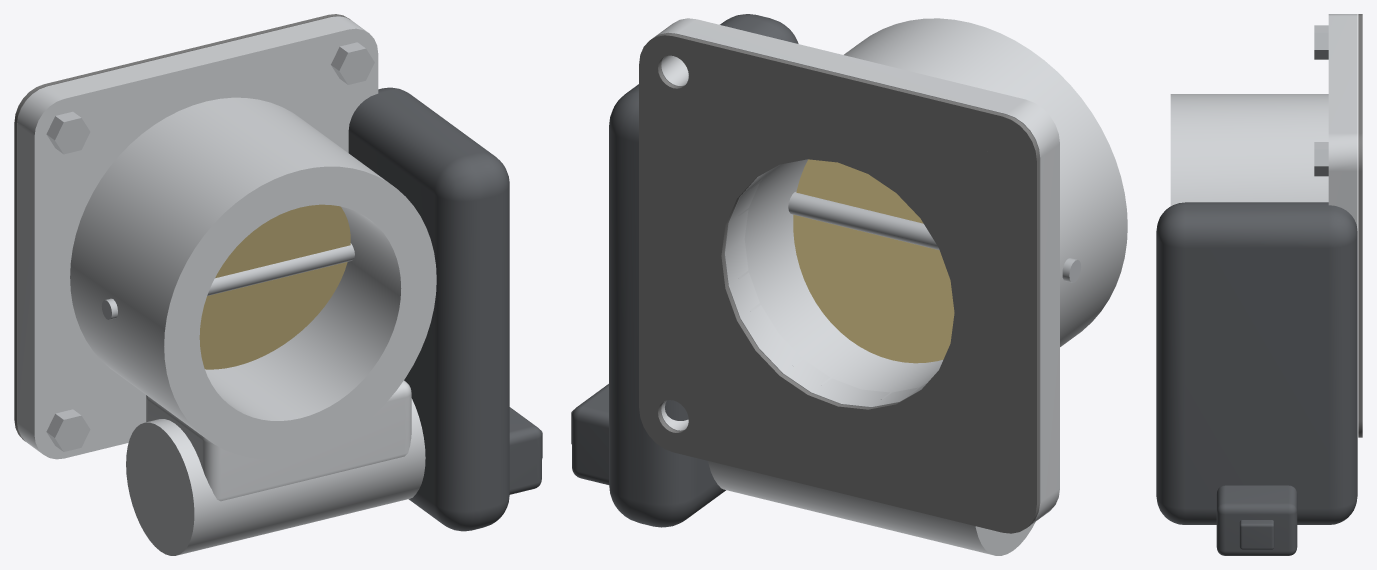
The model's file is throttle_body.glb.
3 renders of one model, left to right at view 1: azimuth 30°, elevation 25°; view 2: azimuth 150°, elevation 25°; view 3: azimuth 270°, elevation 25°, orthographic. The views are drawn at different scales.
Visible parts, largest first — view 1: body, motor_cover, throttle_plate, bolts, gasket, connector; view 2: gasket, body, throttle_plate, motor_cover, connector; view 3: motor_cover, body, connector, gasket, bolts.
Boxes of the visible parts, left/top/right/bottom form: body: left=17, top=16, right=436, bottom=555; motor_cover: left=348, top=87, right=509, bottom=531; throttle_plate: left=101, top=204, right=354, bottom=369; bolts: left=46, top=42, right=374, bottom=451; gasket: left=14, top=14, right=350, bottom=441; connector: left=509, top=407, right=542, bottom=494; gasket: left=639, top=33, right=1039, bottom=533; body: left=653, top=18, right=1127, bottom=555; throttle_plate: left=788, top=159, right=1081, bottom=363; motor_cover: left=609, top=14, right=798, bottom=527; connector: left=571, top=384, right=609, bottom=484; motor_cover: left=1156, top=202, right=1357, bottom=524; body: left=1170, top=14, right=1357, bottom=230; connector: left=1216, top=485, right=1297, bottom=555; gasket: left=1358, top=14, right=1362, bottom=437; bolts: left=1314, top=25, right=1328, bottom=176.
Size of the model in its own units: 154 by 143 by 71.75.
